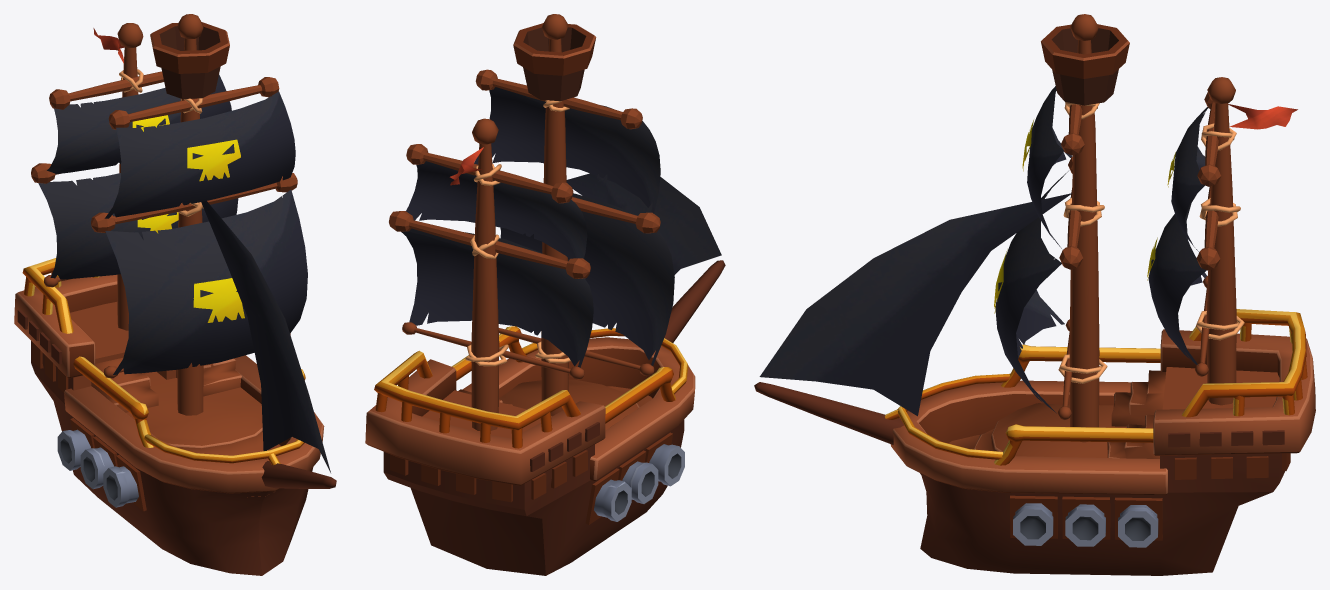
File: CanonShip.fbx
The picture shows the model from 3 angles, left to right: view 1: azimuth 30°, elevation 25°; view 2: azimuth 150°, elevation 25°; view 3: azimuth 270°, elevation 25°; orthographic projection. The views are drawn at different scales.
Visible parts, largest first — view 1: Color_01, Color_Cloth_01, Color_Guns_02, Color_Guns_01, Color_Guns_03; view 2: Color_01, Color_Cloth_01, Color_Guns_03, Color_Guns_01, Color_Guns_02; view 3: Color_01, Color_Cloth_01, Color_Guns_06, Color_Guns_04, Color_Guns_05.
Part boxes in pixels (x1,y1,x2,y2): Color_01: (14,14,336,575); Color_Cloth_01: (38,28,330,472); Color_Guns_02: (103,466,138,507); Color_Guns_01: (80,447,113,489); Color_Guns_03: (57,429,90,470); Color_01: (365,14,725,575); Color_Cloth_01: (401,87,721,367); Color_Guns_03: (594,479,631,521); Color_Guns_01: (622,461,658,503); Color_Guns_02: (649,444,684,486); Color_01: (754,14,1315,575); Color_Cloth_01: (759,86,1297,416); Color_Guns_06: (1118,505,1158,547); Color_Guns_04: (1013,503,1053,545); Color_Guns_05: (1065,504,1105,546).
Size of the model in its own units: 19.52 by 45.84 by 43.22.
